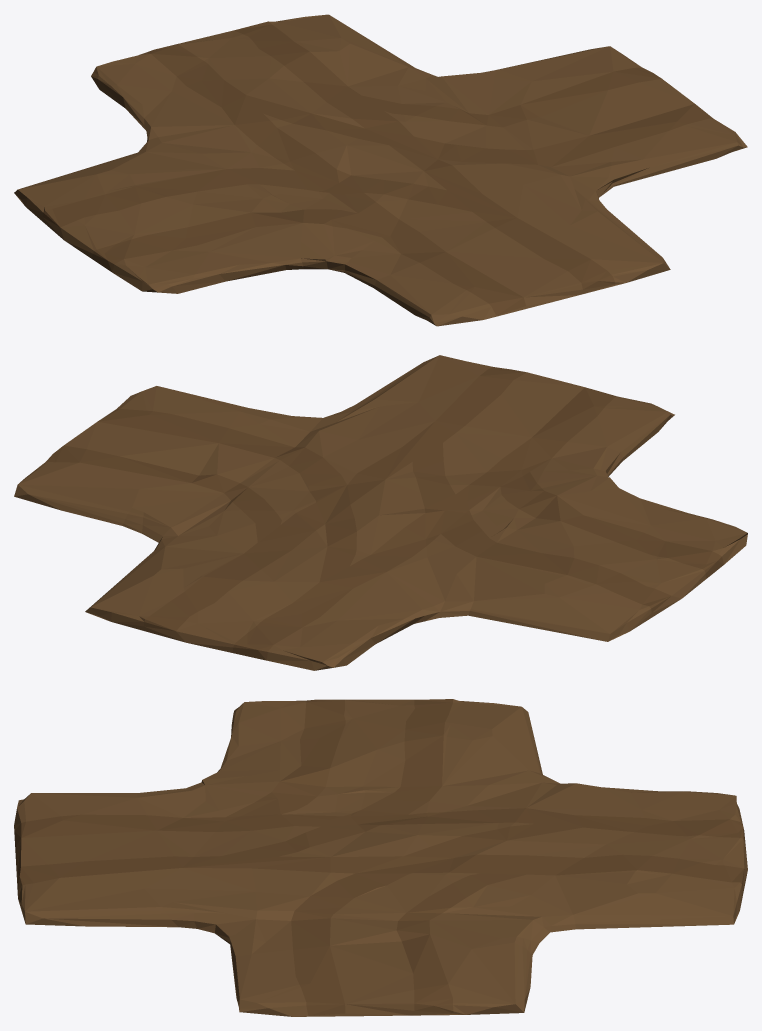
The model's file is Mesh_Landscape_MudRoad_03.FBX.
3 views of the same model, one above another, from view 1: azimuth 30°, elevation 25°; view 2: azimuth 150°, elevation 25°; view 3: azimuth 270°, elevation 25° (orthographic). The views are drawn at different scales.
Visible parts, largest first — view 1: Mesh_Landscape_MudRoad_03; view 2: Mesh_Landscape_MudRoad_03; view 3: Mesh_Landscape_MudRoad_03.
Boxes of the visible parts, <box> form: Mesh_Landscape_MudRoad_03: <box>14,14,747,326</box>; Mesh_Landscape_MudRoad_03: <box>14,355,747,670</box>; Mesh_Landscape_MudRoad_03: <box>14,699,747,1016</box>.
Size of the model in its own units: 850 by 850 by 27.57.
